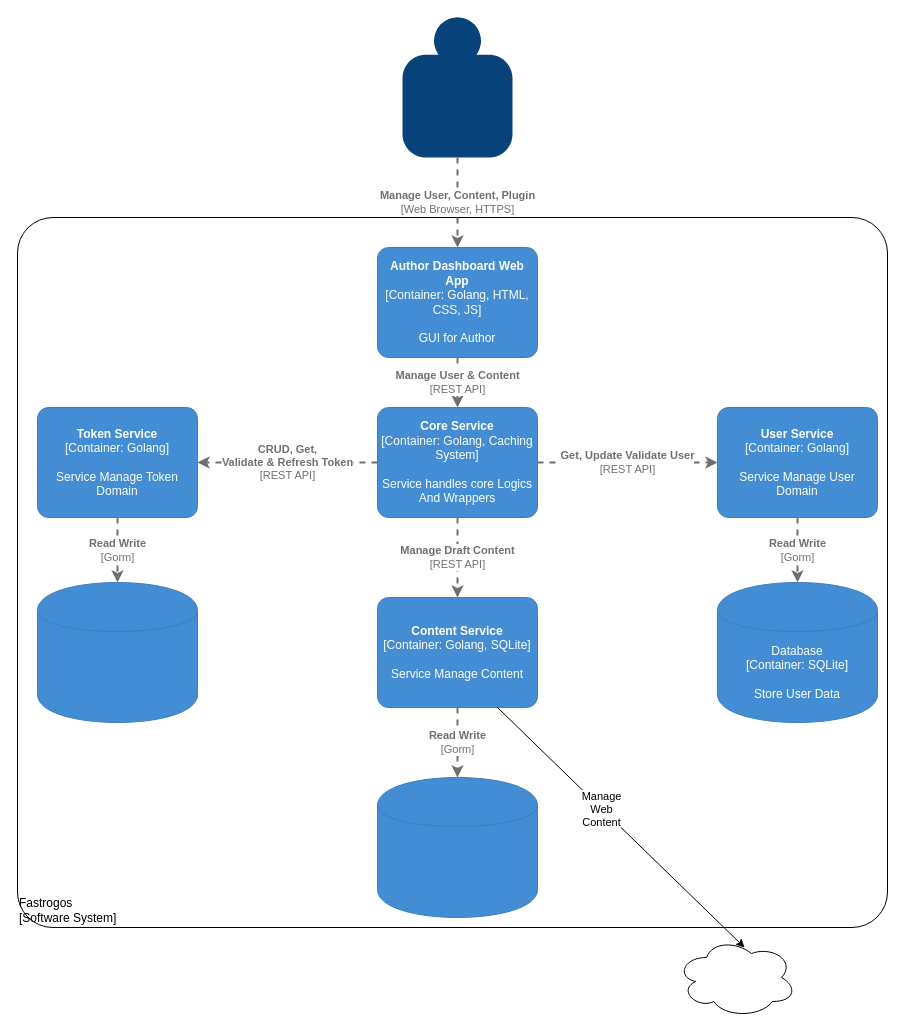
The diagram is 905 pixels wide and 1035 high, and some of its shapes have lost their labels. The shapes that lost their labels are listed below. From the top down, each one's box as (x1, y1, x2, y2) in pixels, then its label:
(402, 17, 512, 157): Author [Person] Content Author
(36, 582, 198, 722): Database [Container: SQLite] Store Token Data
(376, 776, 538, 918): Database [Container: SQLite] Store Content Data
(676, 936, 796, 1018): Website/Blog
